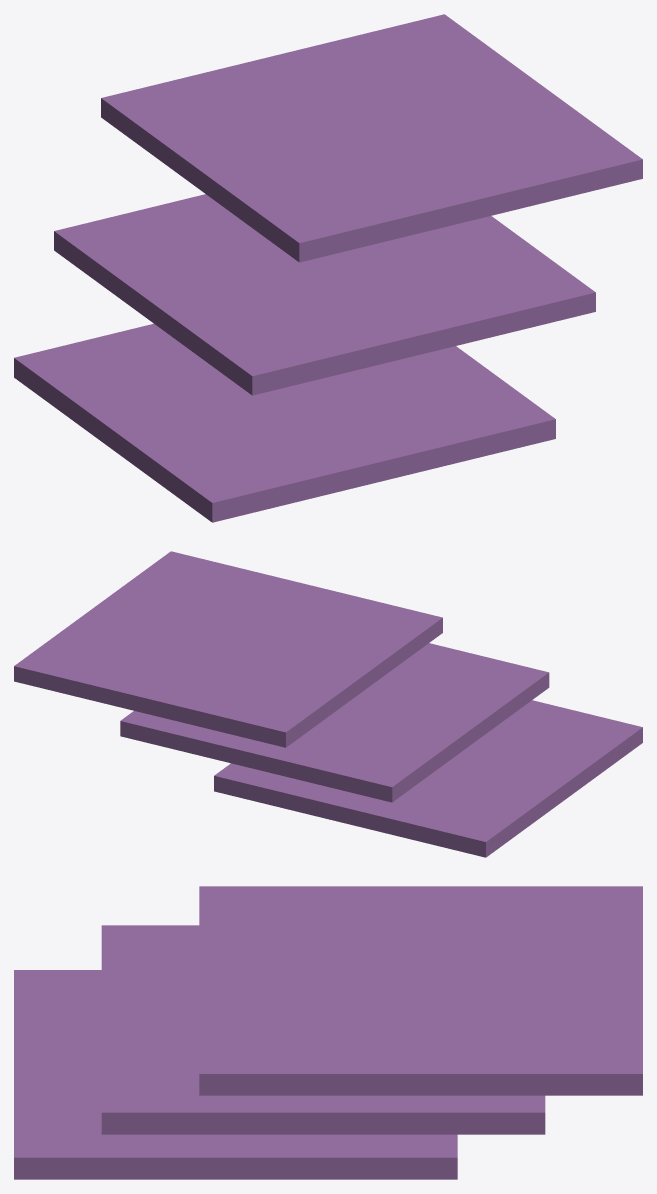
Rendered from full-stack-v2.glb.
3 renders of one model, top to bottom at view 1: azimuth 30°, elevation 25°; view 2: azimuth 150°, elevation 25°; view 3: azimuth 270°, elevation 25°, orthographic. The views are drawn at different scales.
Parts seen in each view (by area): view 1: Mesh_Mesh_head_geo.001_lambert2SG.001; view 2: Mesh_Mesh_head_geo.001_lambert2SG.001; view 3: Mesh_Mesh_head_geo.001_lambert2SG.001.
Boxes of the visible parts, x1,y1,x2,y2 form: Mesh_Mesh_head_geo.001_lambert2SG.001: (14,14,642,522); Mesh_Mesh_head_geo.001_lambert2SG.001: (14,551,642,857); Mesh_Mesh_head_geo.001_lambert2SG.001: (14,886,642,1179).
Bounding box in the file's own units: 0.136 × 0.0449 × 0.129.
